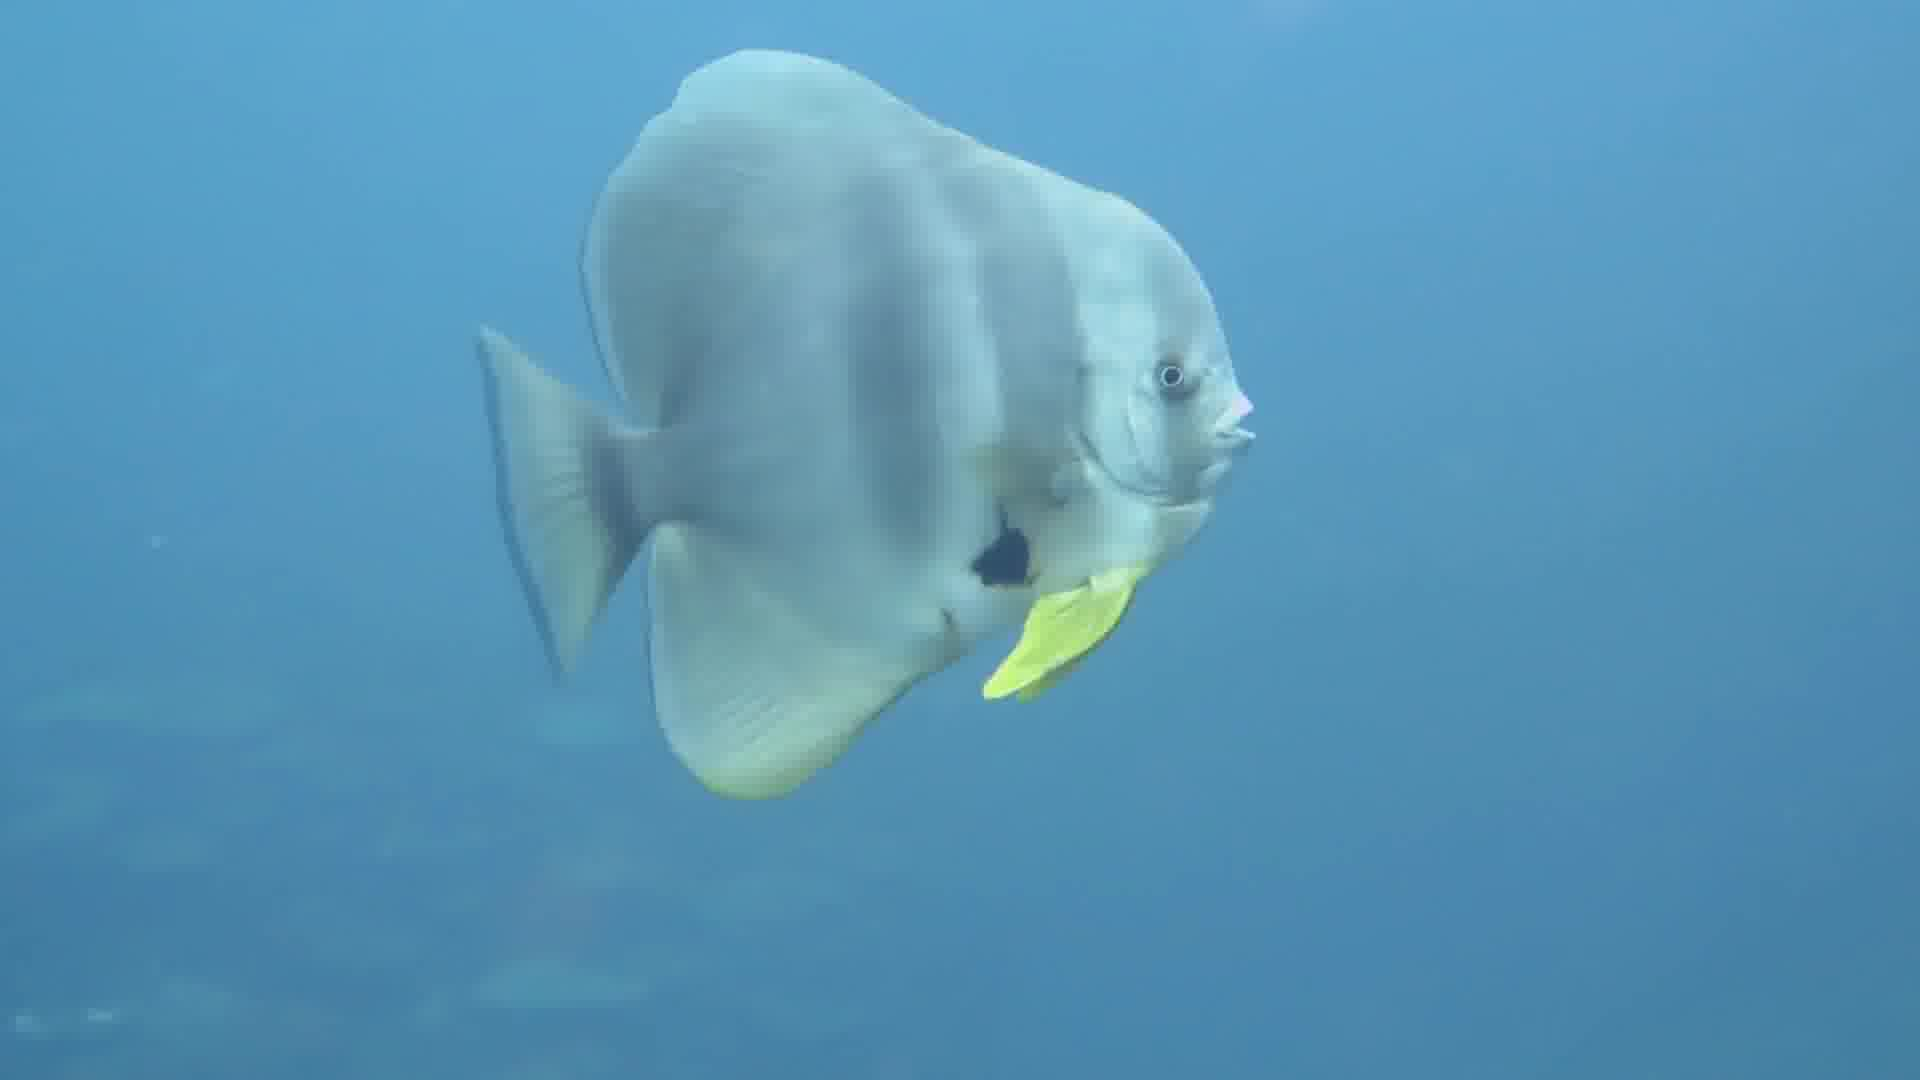Platax teira: (443, 1, 1313, 889)
